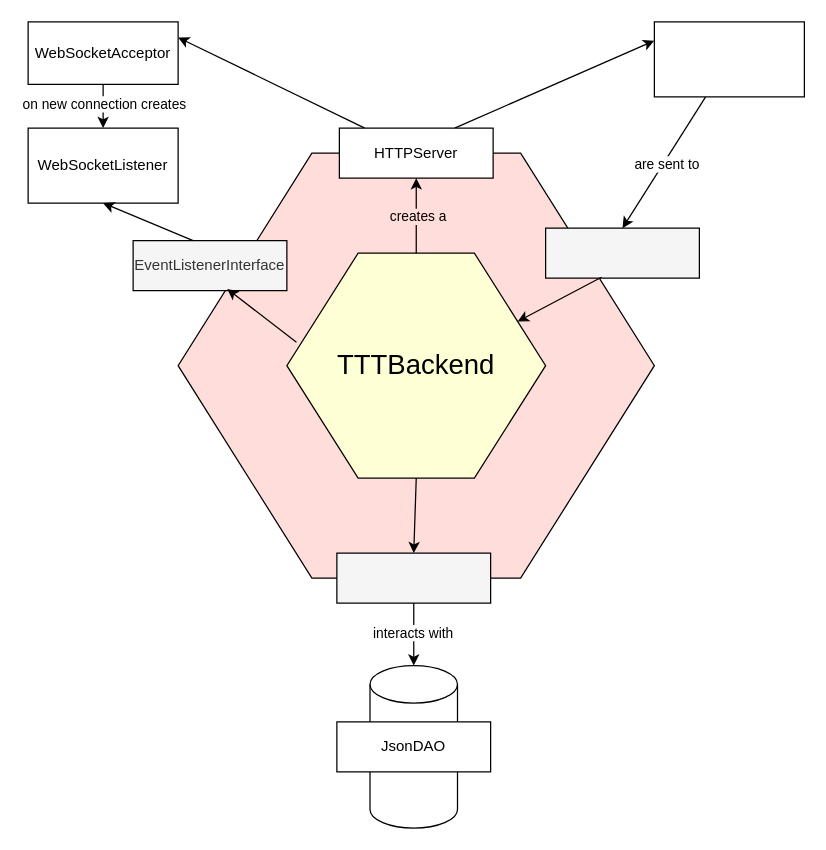
The diagram is 826 pixels wide and 850 high, and some of its shapes have lost their labels. The shapes that lost their labels are listed below. From the top down, each one's centre as x and y in pixels, then its label:
At (x=728, y=59): "RestCommands".
At (x=621, y=252): "CommandsInterface".
At (x=413, y=577): "UserRepoInterface".
